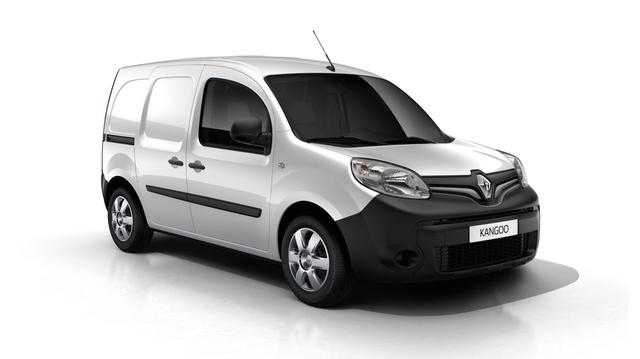van: (99, 55, 540, 308)
